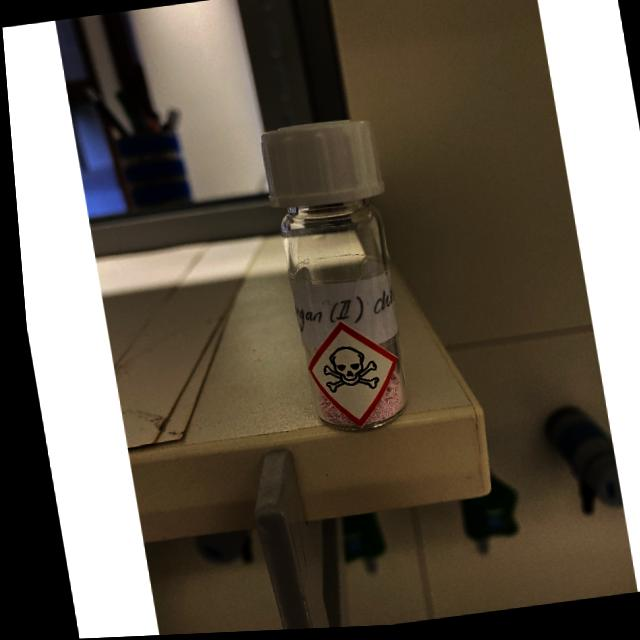acute toxicity: (309, 345, 375, 398)
